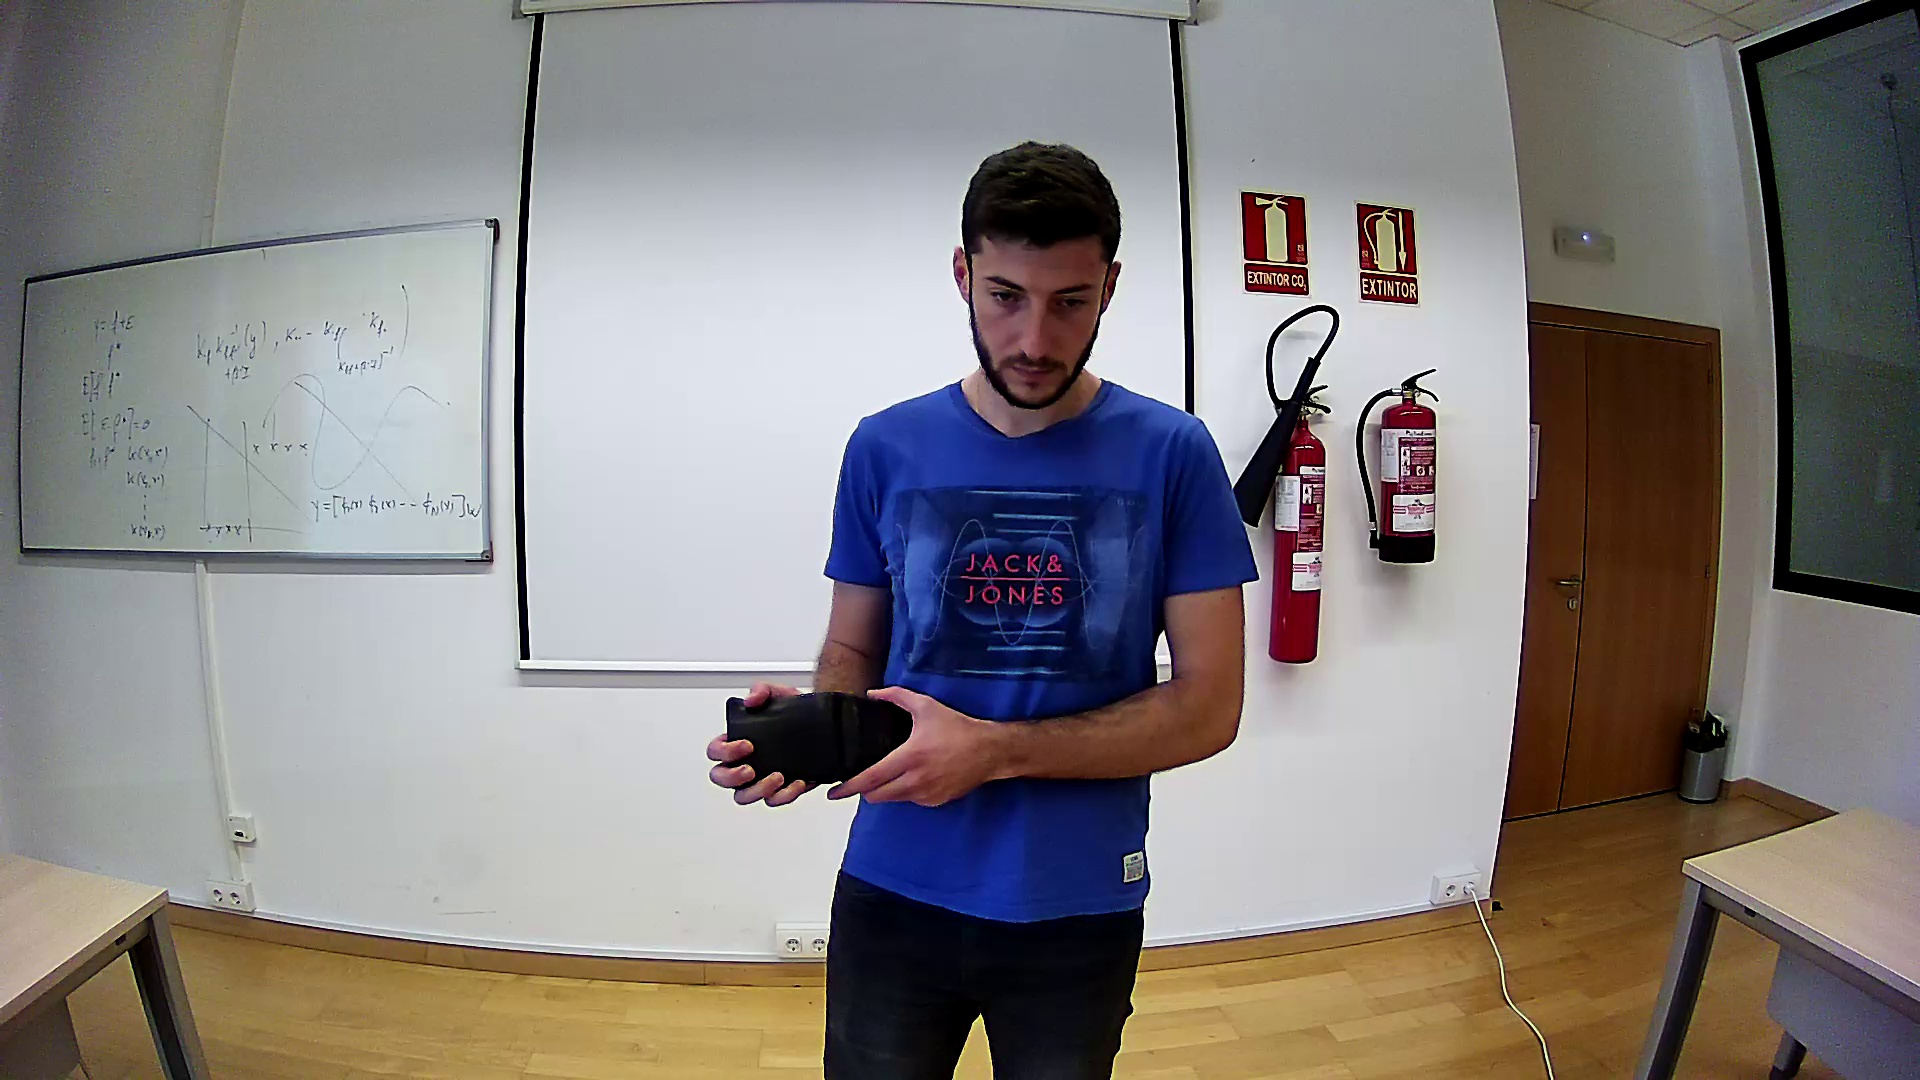monedero: (725, 690, 914, 791)
